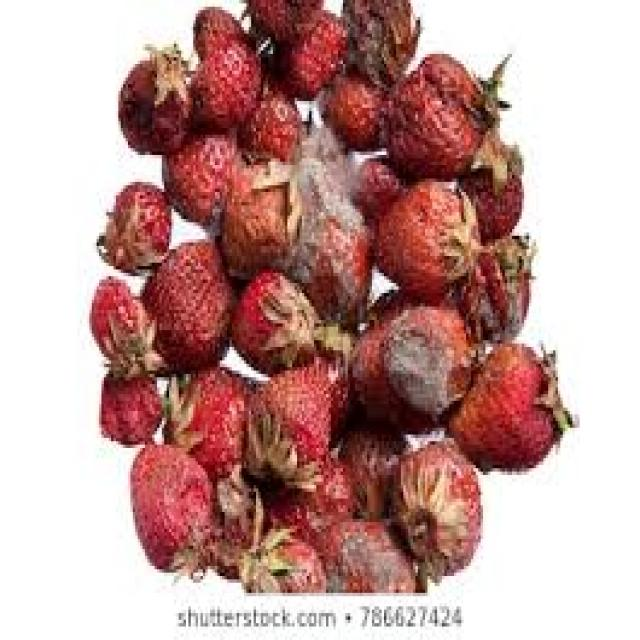organic waste: (348, 286, 473, 434), (444, 340, 575, 472), (379, 50, 507, 172), (386, 434, 478, 572), (369, 175, 476, 290), (140, 236, 227, 364), (160, 360, 246, 485), (131, 435, 210, 569), (242, 367, 328, 489), (258, 454, 365, 546), (234, 482, 324, 590), (217, 155, 297, 276), (273, 313, 355, 431), (227, 263, 319, 367), (297, 189, 370, 320), (249, 10, 348, 94), (160, 121, 242, 222), (456, 229, 532, 337), (116, 40, 188, 152), (304, 515, 416, 586), (237, 54, 302, 165), (90, 273, 160, 374), (336, 414, 401, 519), (186, 40, 258, 132), (92, 182, 169, 266), (461, 128, 522, 232), (316, 64, 384, 152), (338, 0, 418, 74), (94, 364, 160, 444), (208, 472, 258, 572), (299, 114, 348, 196), (348, 152, 398, 216), (237, 0, 321, 37), (194, 3, 246, 54)
